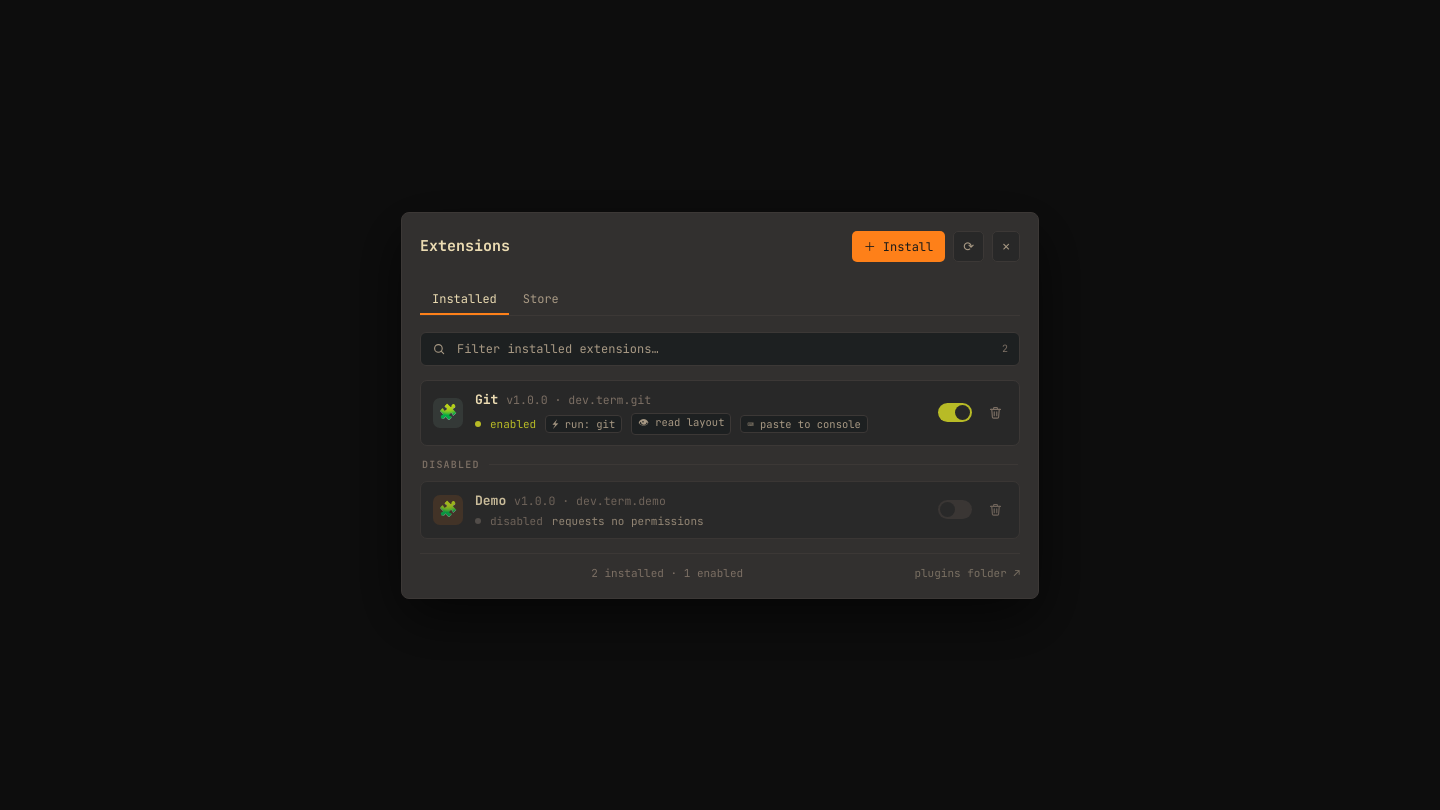
Scenario: ExtensionsScreen › filter: input leaves only matches, counter reflects the number
The width and height of the screenshot is (1440, 810).
Type "git" into the field named "filter extensions" at (724, 348), box [455,340,993,358]
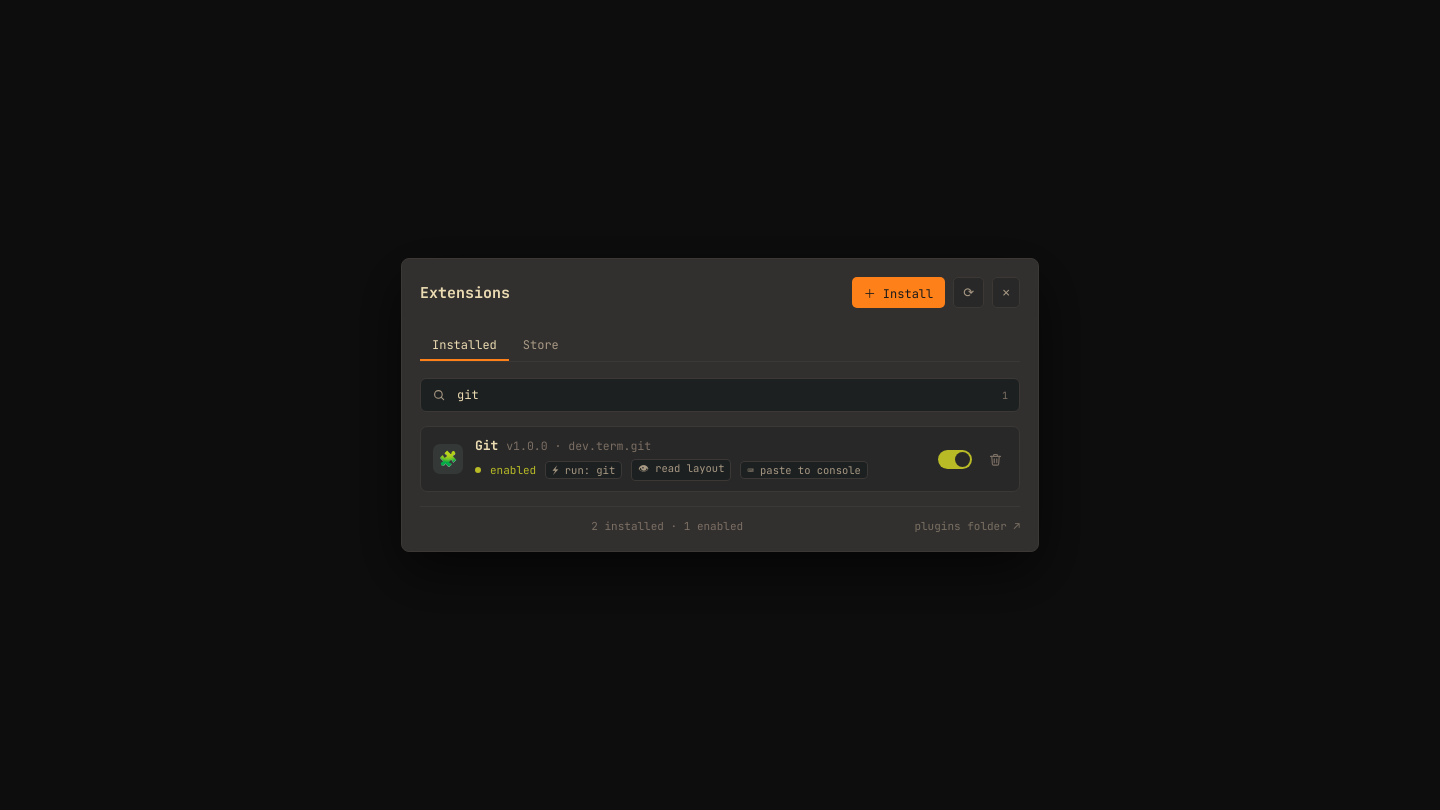
Expected: the text "Git" is shown, [475,437,498,454]
Now the button "Demo" is gone
